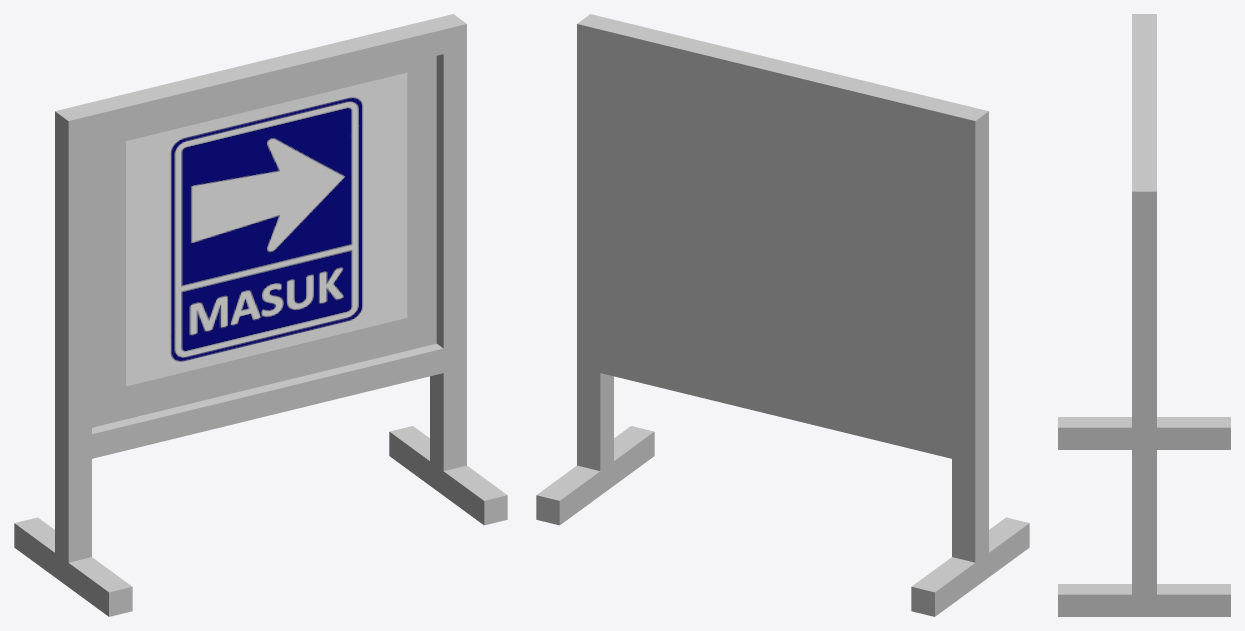
Rendered from Masuk.fbx.
The picture shows the model from 3 angles, left to right: view 1: azimuth 30°, elevation 25°; view 2: azimuth 150°, elevation 25°; view 3: azimuth 270°, elevation 25°; orthographic projection. The views are drawn at different scales.
Parts seen in each view (by area): view 1: _(Loose Entity), Plane; view 2: _(Loose Entity); view 3: _(Loose Entity).
Boxes of the visible parts, x1=… form: _(Loose Entity): x1=14, y1=14, x2=507, y2=616; Plane: x1=126, y1=72, x2=407, y2=386; _(Loose Entity): x1=536, y1=14, x2=1029, y2=616; _(Loose Entity): x1=1058, y1=14, x2=1230, y2=616.
Bounding box in the file's own units: 17 × 19 × 7.
